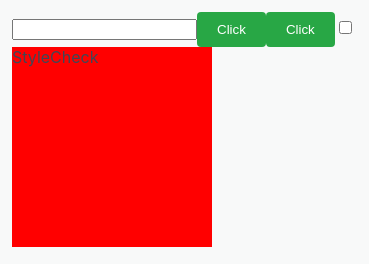
should show setname button click
The width and height of the screenshot is (369, 264).
Click the button with test id "setname": {"x": 231, "y": 30} [197,12,266,47]
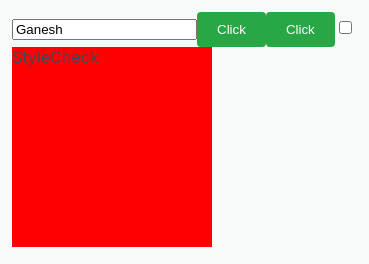
Result: the field titled "nameId" holds "Ganesh" at [12,19,197,40]
